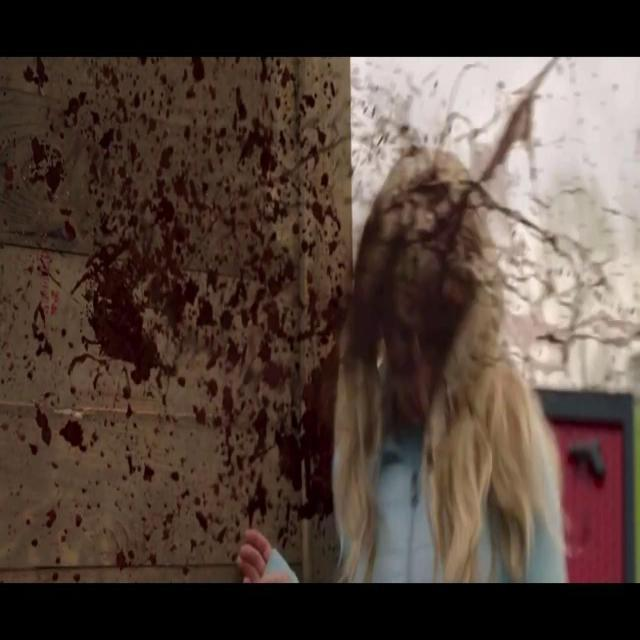flood: (17, 58, 334, 506), (352, 54, 634, 362)
